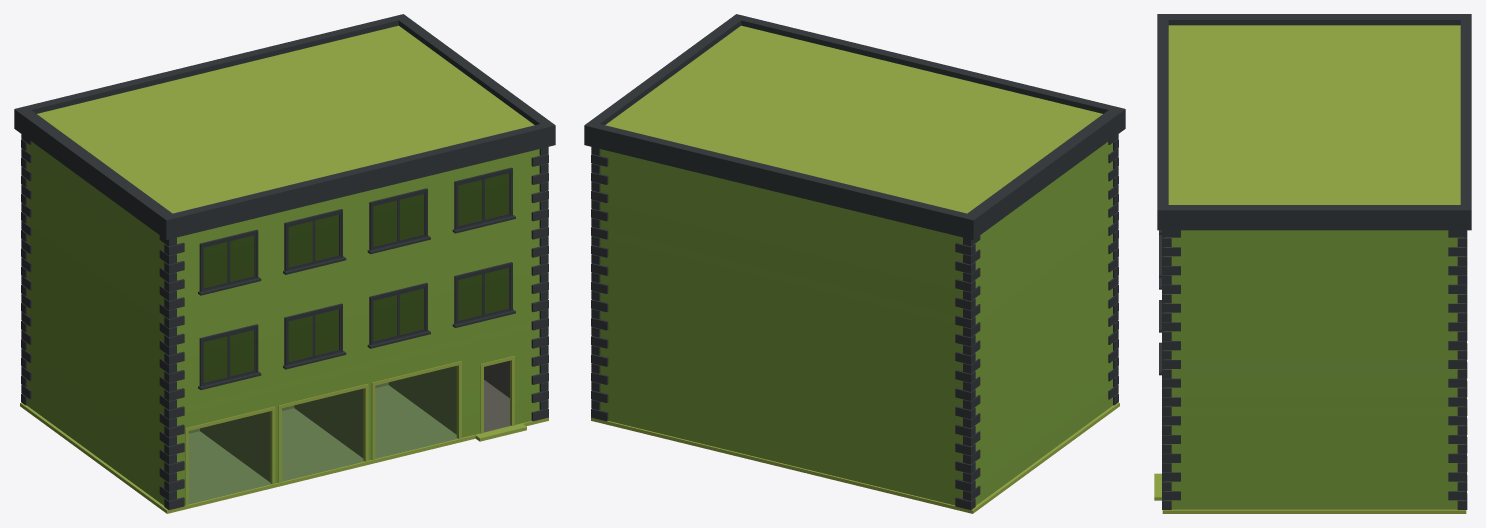
File: House_26.fbx
The picture shows the model from 3 angles, left to right: view 1: azimuth 30°, elevation 25°; view 2: azimuth 150°, elevation 25°; view 3: azimuth 270°, elevation 25°; orthographic projection. The views are drawn at different scales.
Parts seen in each view (by area): view 1: House_26; view 2: House_26; view 3: House_26.
Part boxes in pixels (box(x1,y1,x2,y2)): House_26: box(14, 14, 555, 513); House_26: box(584, 14, 1125, 513); House_26: box(1154, 14, 1471, 513).
Size of the model in its own units: 12.38 by 9 by 8.47.
